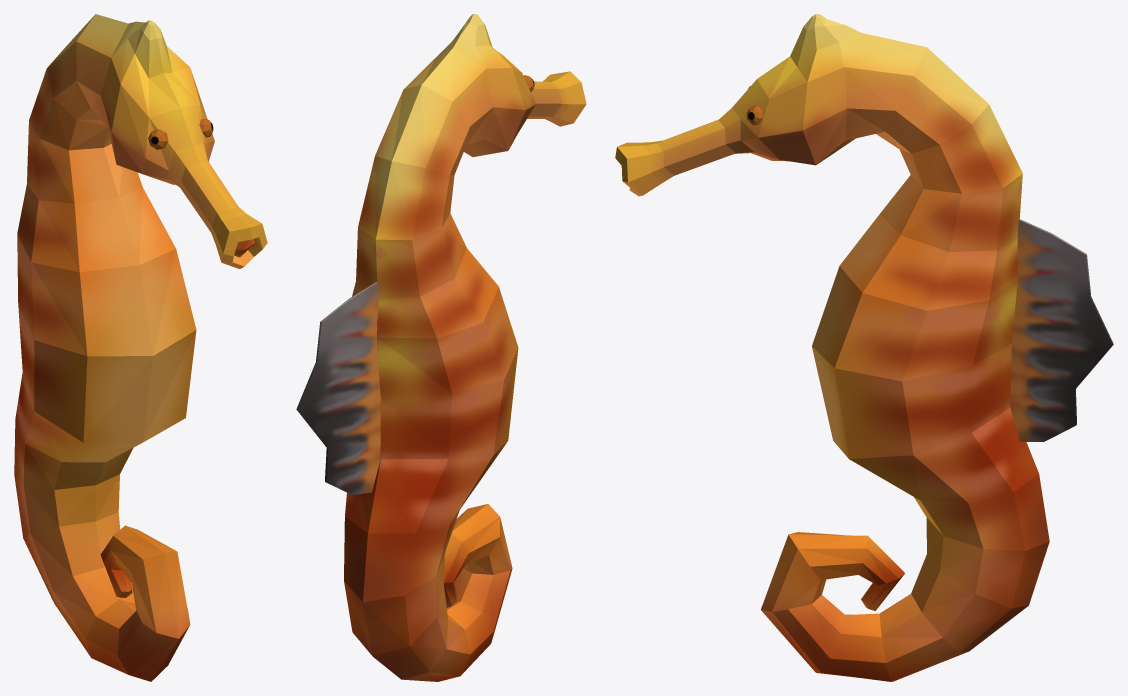
File: seahorse-anim.glb
3 views of the same model, side by side, from view 1: azimuth 30°, elevation 25°; view 2: azimuth 150°, elevation 25°; view 3: azimuth 270°, elevation 25° (orthographic). The views are drawn at different scales.
Visible parts, largest first — view 1: body; view 2: body, fin; view 3: body, fin.
Boxes of the visible parts, x1=… form: body: x1=14, y1=14, x2=267, y2=681; body: x1=344, y1=14, x2=586, y2=681; fin: x1=296, y1=281, x2=380, y2=494; body: x1=615, y1=14, x2=1049, y2=681; fin: x1=1010, y1=219, x2=1113, y2=441.
Bounding box in the file's own units: 1.38 × 5.98 × 4.05.
Materials: 3 (1 with a texture image).
